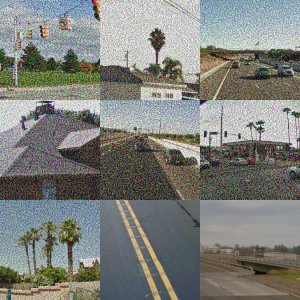汽車: (145, 136, 167, 164), (103, 242, 133, 257)
消防栓: (44, 100, 97, 198), (19, 1, 69, 90), (240, 228, 272, 291)
紅綠燈: (148, 10, 168, 34), (171, 1, 188, 17)
